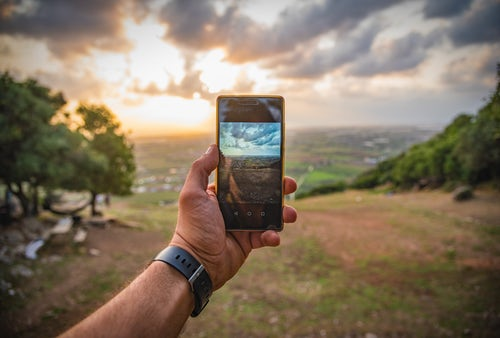phone: (212, 95, 286, 232)
